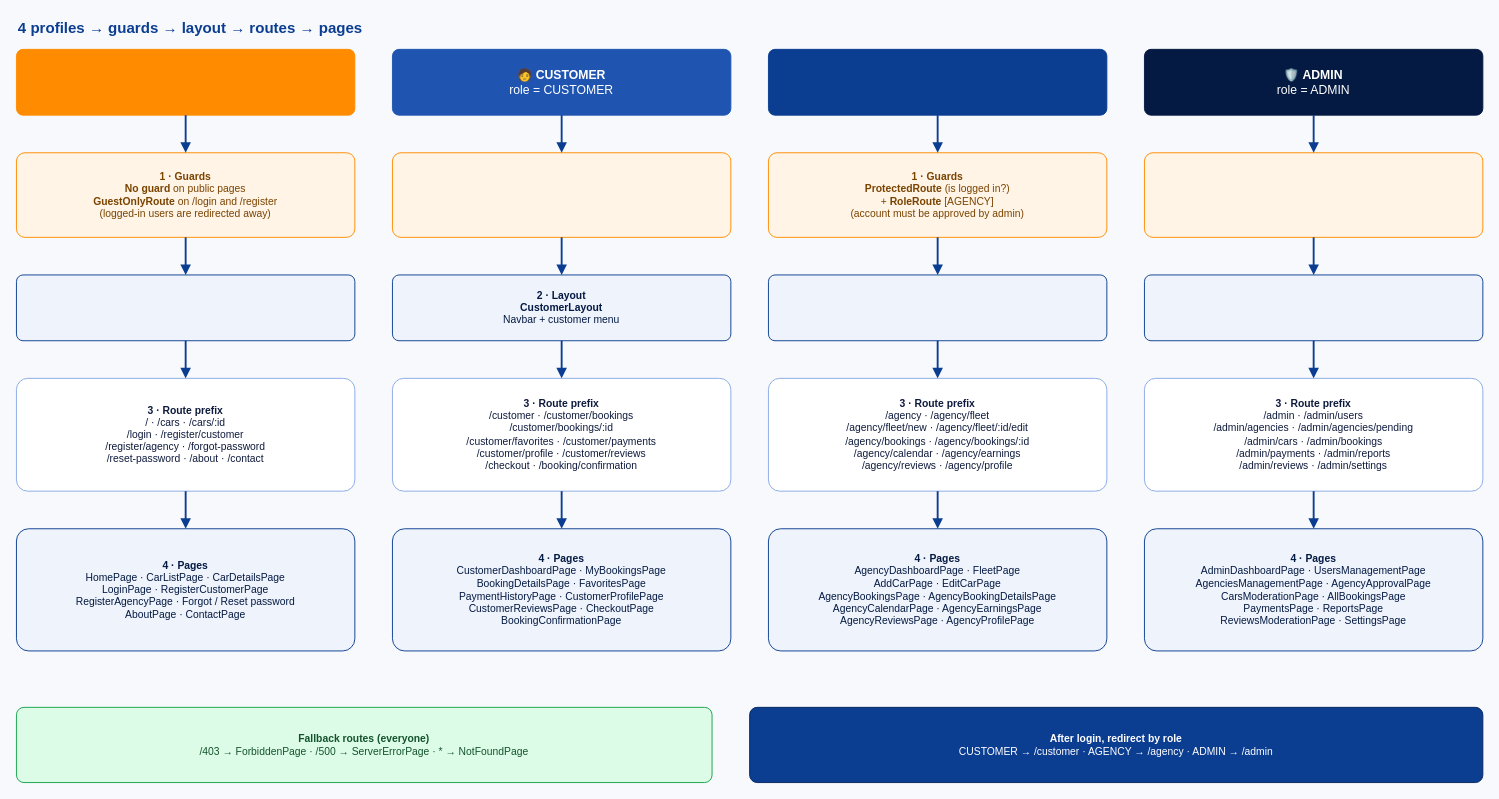
The diagram is 1499 pixels wide and 799 high, and some of its shapes have lost their labels. The centre of each missing label's shape, as x and y in pixels:
"1 · Guards ProtectedRoute (is logged in?) + RoleRoute [ADMIN]" goes at pixel 1313 194.
"1 · Guards ProtectedRoute (is logged in?) + RoleRoute [CUSTOMER]" goes at pixel 561 194.
"2 · Layout AdminLayout Sidebar + Topbar" goes at pixel 1313 307.
"2 · Layout AgencyLayout Sidebar + Topbar" goes at pixel 937 307.
"2 · Layout PublicLayout + AuthLayout" goes at pixel 185 307.
"🏢 AGENCY role = AGENCY" goes at pixel 937 81.
"👤 GUEST not logged in" goes at pixel 185 81.
